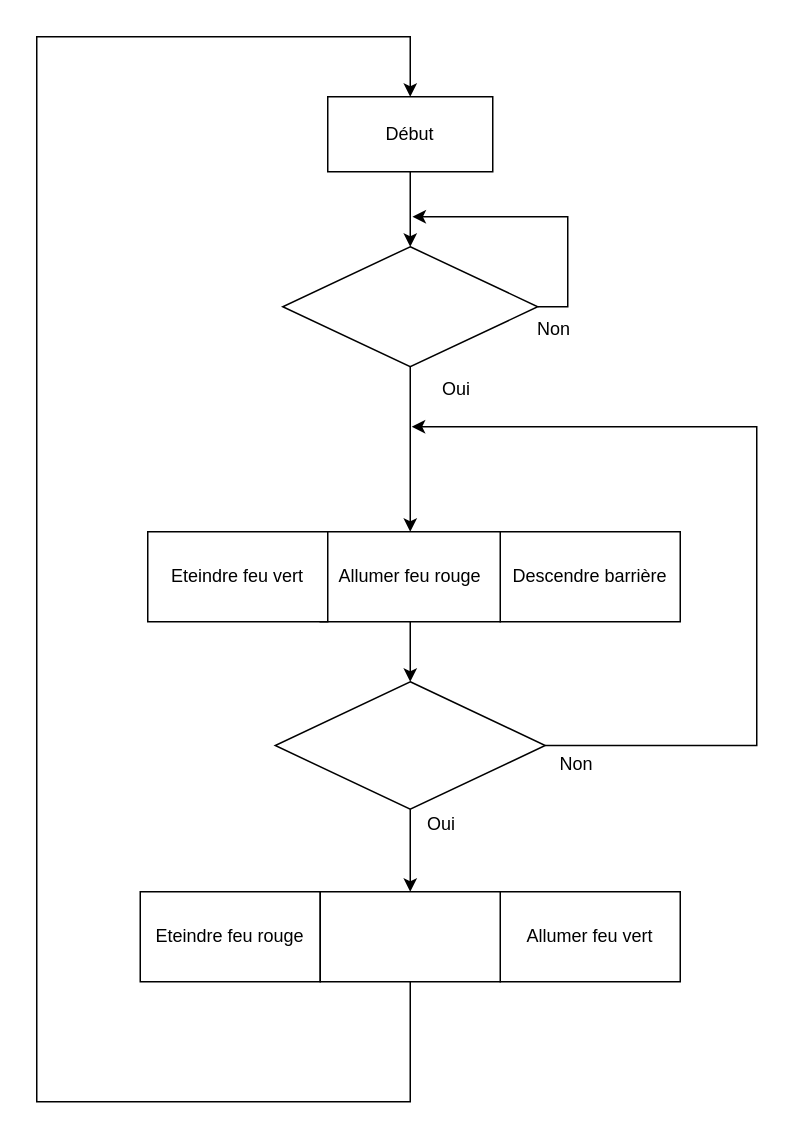
The diagram is 795 pixels wide and 1140 high, and some of its shapes have lost their labels. Each missing label, with the centre of its shape:
Lever barrière: point (409, 936)
Tramway déte cté de l'autre côté ?: point (409, 744)
Tramway détecté ?: point (409, 306)
